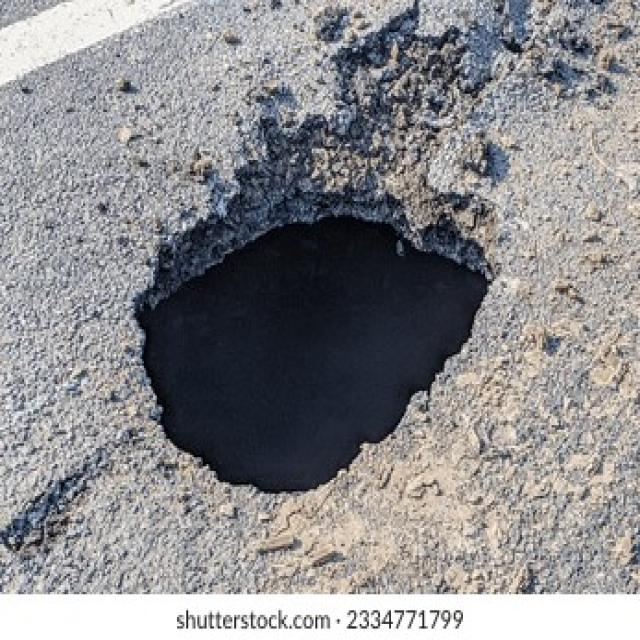road collapse: (0, 35, 589, 529)
